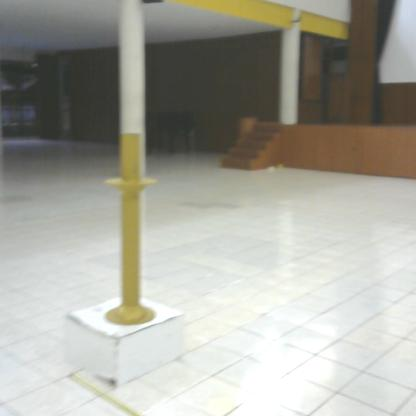pole: (100, 128, 165, 331)
